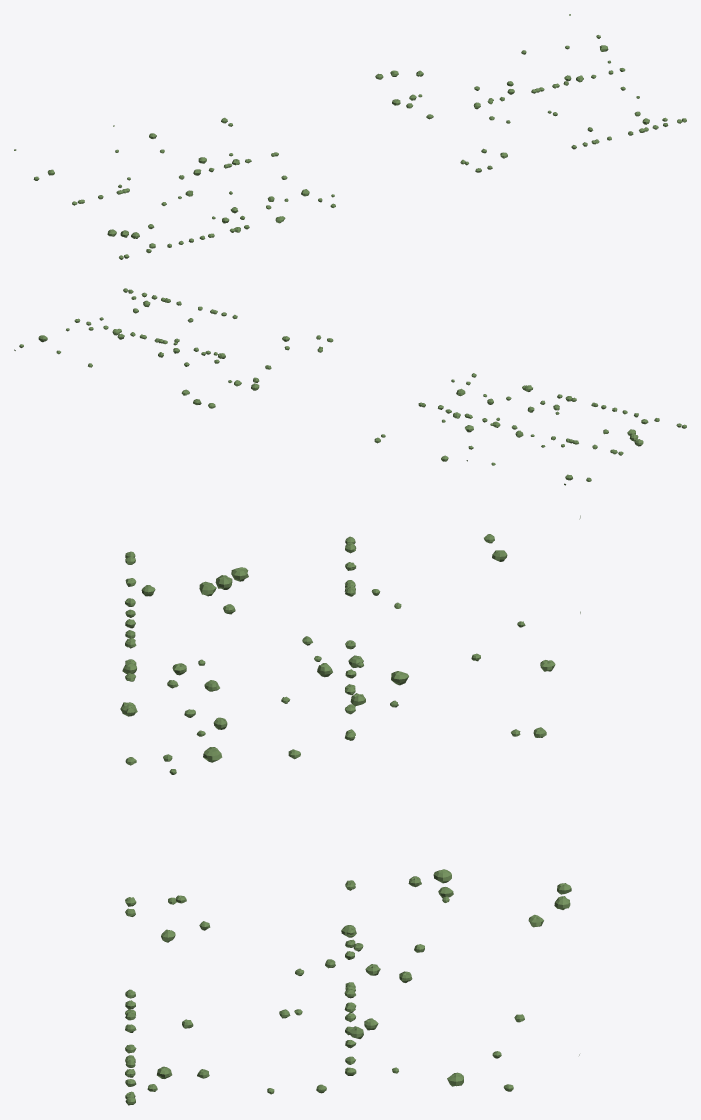
Rendered from E6-6_Arbustos.fbx.
The picture shows the model from 3 angles, top to bottom: view 1: azimuth 30°, elevation 25°; view 2: azimuth 150°, elevation 25°; view 3: azimuth 270°, elevation 25°; orthographic projection. The views are drawn at different scales.
Parts seen in each view (by area): view 1: E6-6_Arbustos; view 2: E6-6_Arbustos; view 3: E6-6_Arbustos.
Part boxes in pixels (<box>): E6-6_Arbustos: <box>14,14,686,259</box>; E6-6_Arbustos: <box>14,288,686,485</box>; E6-6_Arbustos: <box>120,515,580,1105</box>.
Bounding box in the file's own units: 234 × 10.67 × 81.66.
